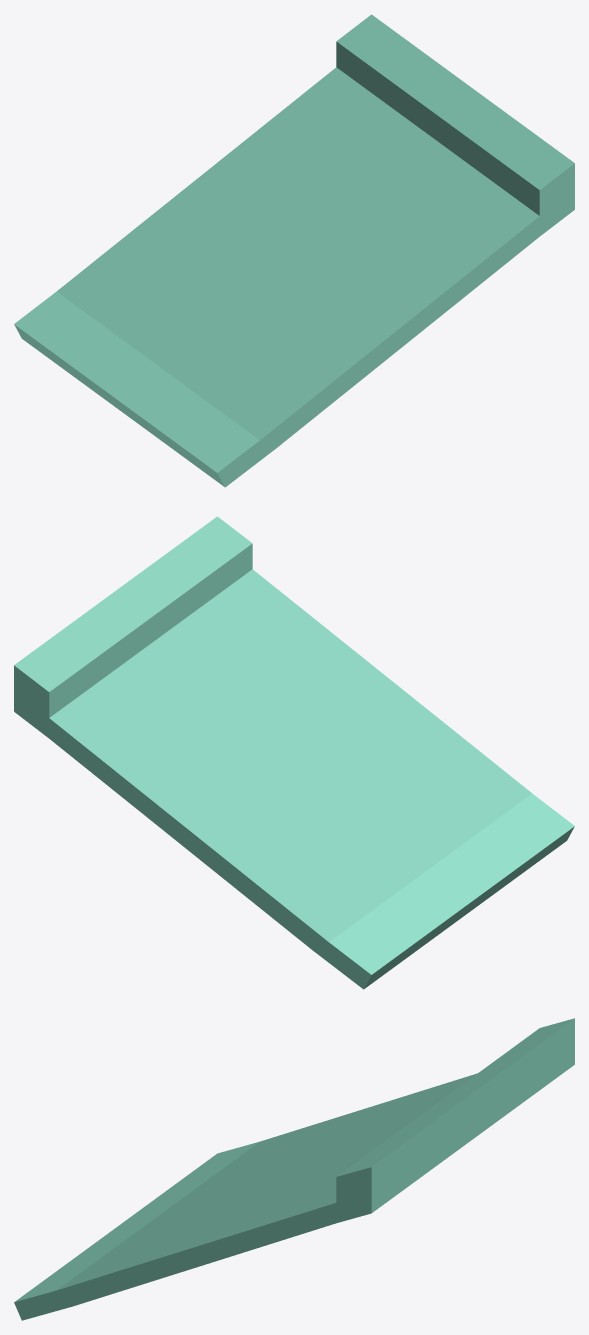
The model's file is roof.fbx.
3 views of the same model, one above another, from view 1: azimuth 30°, elevation 25°; view 2: azimuth 150°, elevation 25°; view 3: azimuth 330°, elevation 25° (orthographic).
Parts seen in each view (by area): view 1: roof; view 2: roof; view 3: roof.
Boxes of the visible parts, box(x1,y1,x2,y2) form: roof: box(14, 14, 574, 487); roof: box(14, 516, 574, 989); roof: box(14, 1018, 574, 1320).
Bounding box in the file's own units: 101 × 64.83 × 100.
